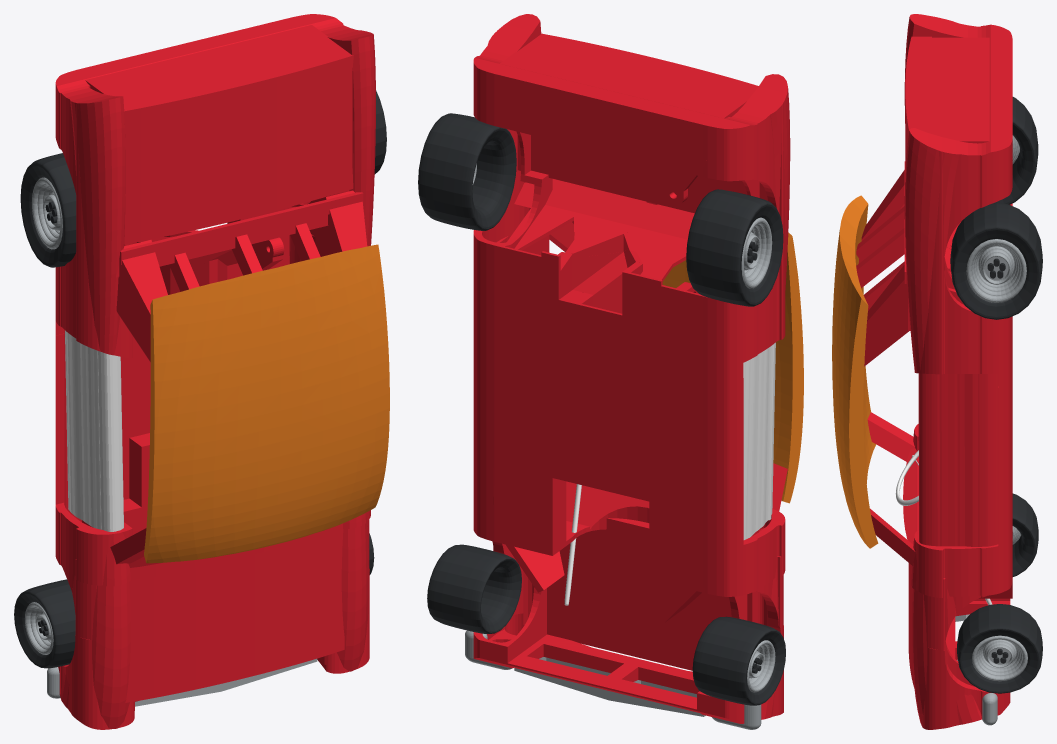
Rendered from tinker.obj.
3 renders of one model, left to right at view 1: azimuth 30°, elevation 25°; view 2: azimuth 150°, elevation 25°; view 3: azimuth 270°, elevation 25°, orthographic. The views are drawn at different scales.
Parts seen in each view (by area): view 1: group_0_15277357, group_0_16089887, group_0_16448250, group_0_2829873, group_0_10988977; view 2: group_0_15277357, group_0_2829873, group_0_16448250, group_0_16089887, group_0_10988977; view 3: group_0_15277357, group_0_2829873, group_0_16089887, group_0_10988977, group_0_16448250.
Boxes of the visible parts, x1,y1,x2,y2 form: group_0_15277357: [55, 14, 375, 729]; group_0_16089887: [144, 244, 389, 563]; group_0_16448250: [65, 330, 123, 531]; group_0_2829873: [14, 90, 386, 668]; group_0_10988977: [25, 177, 317, 706]; group_0_15277357: [473, 14, 790, 723]; group_0_2829873: [418, 113, 785, 705]; group_0_16448250: [564, 342, 775, 605]; group_0_16089887: [662, 232, 803, 503]; group_0_10988977: [465, 163, 775, 729]; group_0_15277357: [856, 14, 1012, 729]; group_0_2829873: [950, 97, 1042, 693]; group_0_16089887: [832, 195, 878, 548]; group_0_10988977: [955, 135, 1027, 725]; group_0_16448250: [895, 450, 992, 604].
Size of the model in its own units: 106 by 196 by 62.8.
